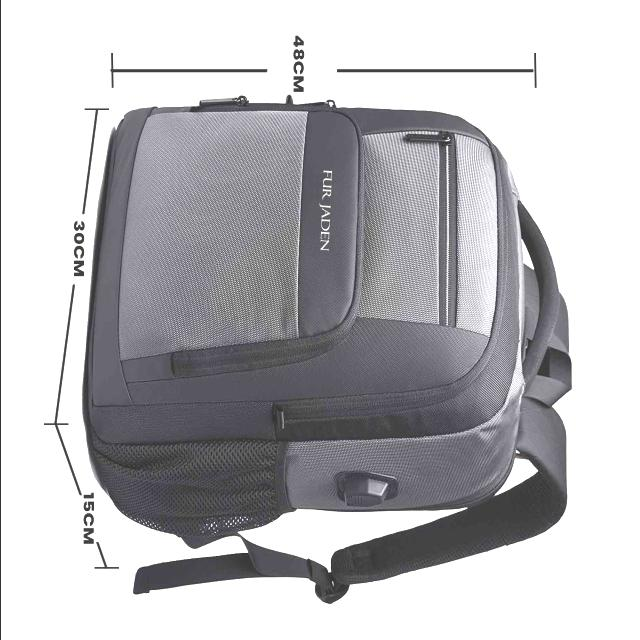backpack: (83, 97, 573, 605)
